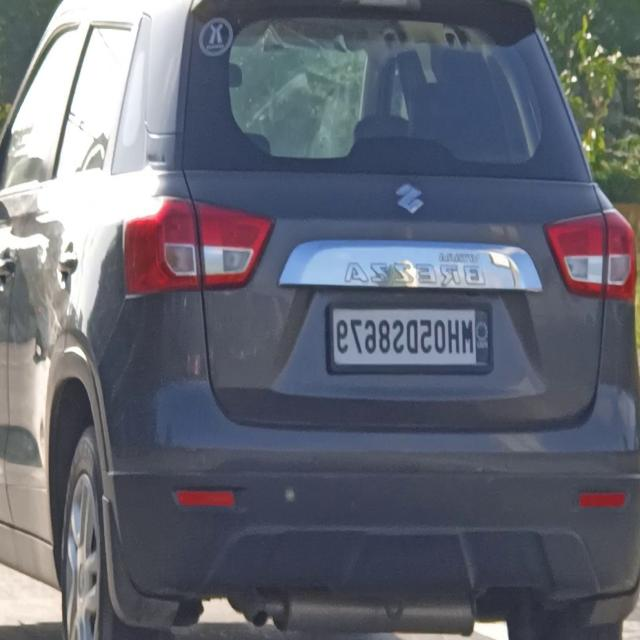license_plate: (321, 288, 497, 386)
